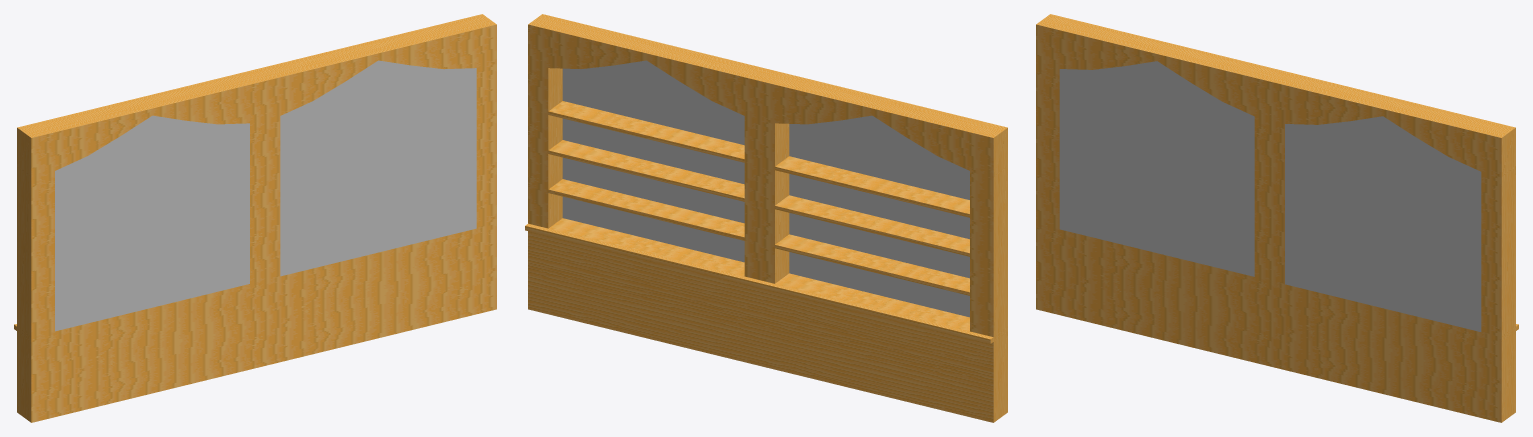
File: BottleShelf.fbx
3 views of the same model, side by side, from view 1: azimuth 30°, elevation 25°; view 2: azimuth 150°, elevation 25°; view 3: azimuth 330°, elevation 25° (orthographic).
Visible parts, largest first — view 1: Cube; view 2: Cube; view 3: Cube.
Part boxes in pixels (x1,y1,x2,y2): Cube: (14, 14, 496, 422); Cube: (525, 14, 1007, 422); Cube: (1036, 14, 1518, 422).
Bounding box in the file's own units: 10.97 × 6.42 × 0.7087.
2 materials, 1 textured.
